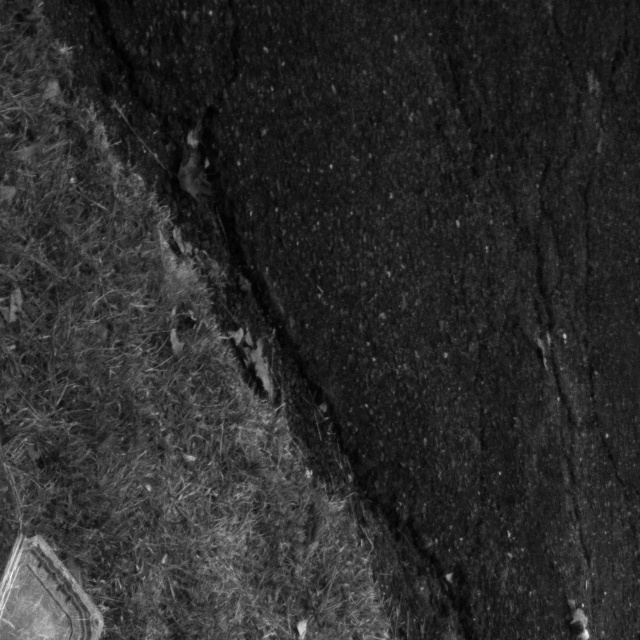container: (0, 419, 112, 640)
